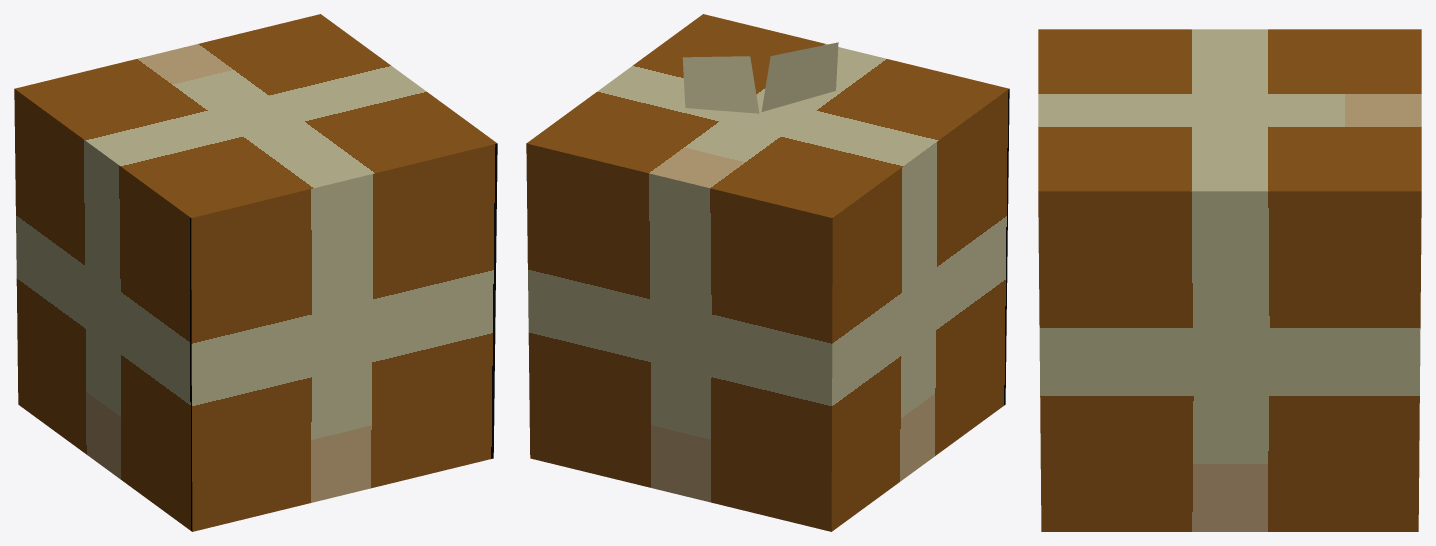
Rendered from SM_SmallPresent.glb.
The picture shows the model from 3 angles, left to right: view 1: azimuth 30°, elevation 25°; view 2: azimuth 150°, elevation 25°; view 3: azimuth 270°, elevation 25°; orthographic projection. The views are drawn at different scales.
Parts seen in each view (by area): view 1: SM_SmallPresent; view 2: SM_SmallPresent; view 3: SM_SmallPresent.
Part boxes in pixels (bbox=[...]): SM_SmallPresent: bbox=[14, 14, 497, 531]; SM_SmallPresent: bbox=[526, 14, 1009, 531]; SM_SmallPresent: bbox=[1038, 29, 1421, 531].
Size of the model in its own units: 0.3176 by 0.3785 by 0.3176.
1 material, 1 textured.
